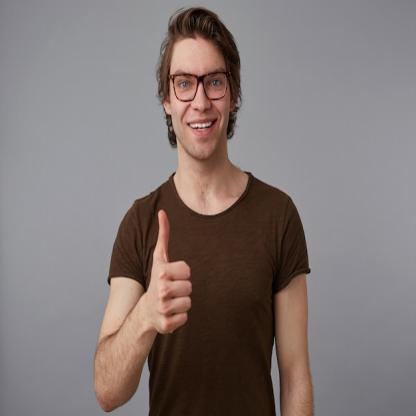thumb_up: (144, 208, 194, 335)
